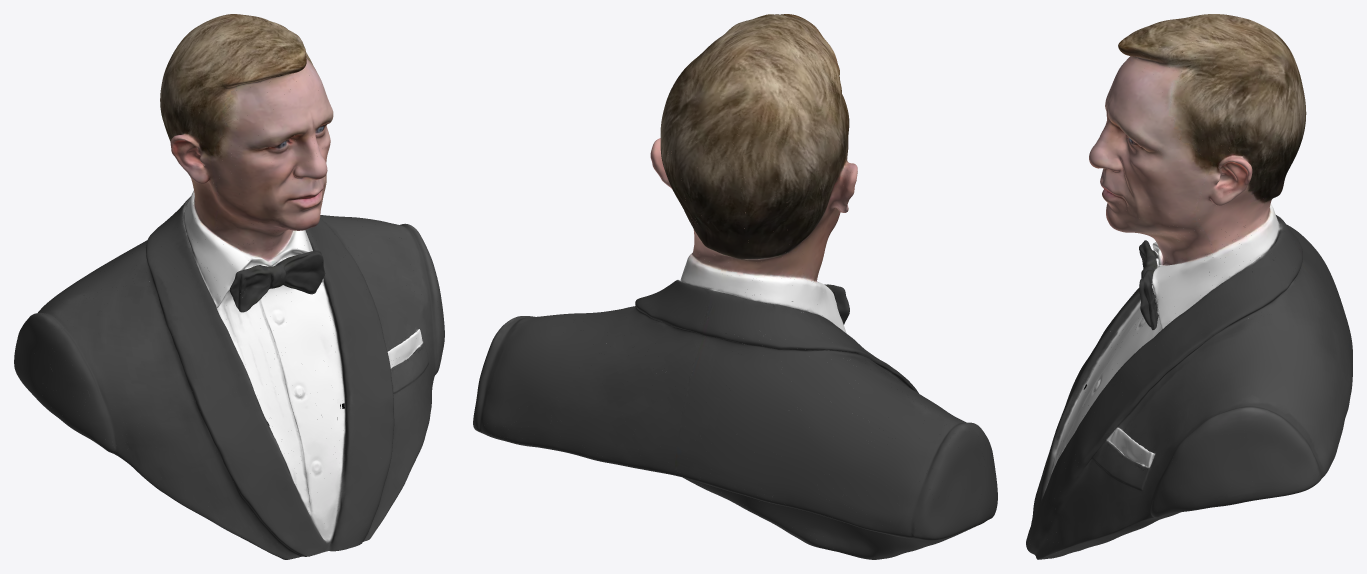
Rendered from 真人头像_男_西装绅士01_opt.glb.
3 views of the same model, side by side, from view 1: azimuth 30°, elevation 25°; view 2: azimuth 150°, elevation 25°; view 3: azimuth 270°, elevation 25° (orthographic). The views are drawn at different scales.
Visible parts, largest first — view 1: Object_2, Object_3; view 2: Object_2, Object_3; view 3: Object_2, Object_3.
Part boxes in pixels (box(x1,y1,x2,y2)): Object_2: box(14, 14, 444, 559); Object_3: box(15, 16, 443, 559); Object_2: box(473, 14, 997, 559); Object_3: box(473, 15, 997, 559); Object_2: box(1026, 14, 1352, 559); Object_3: box(1026, 15, 1352, 559).
Size of the model in its own units: 0.2597 by 0.3 by 0.1716.
Materials: 1 (1 with a texture image).
